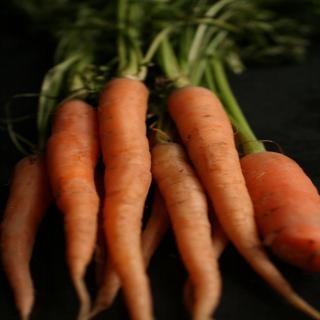Carrot: (143, 0, 318, 320), (0, 0, 165, 320)
